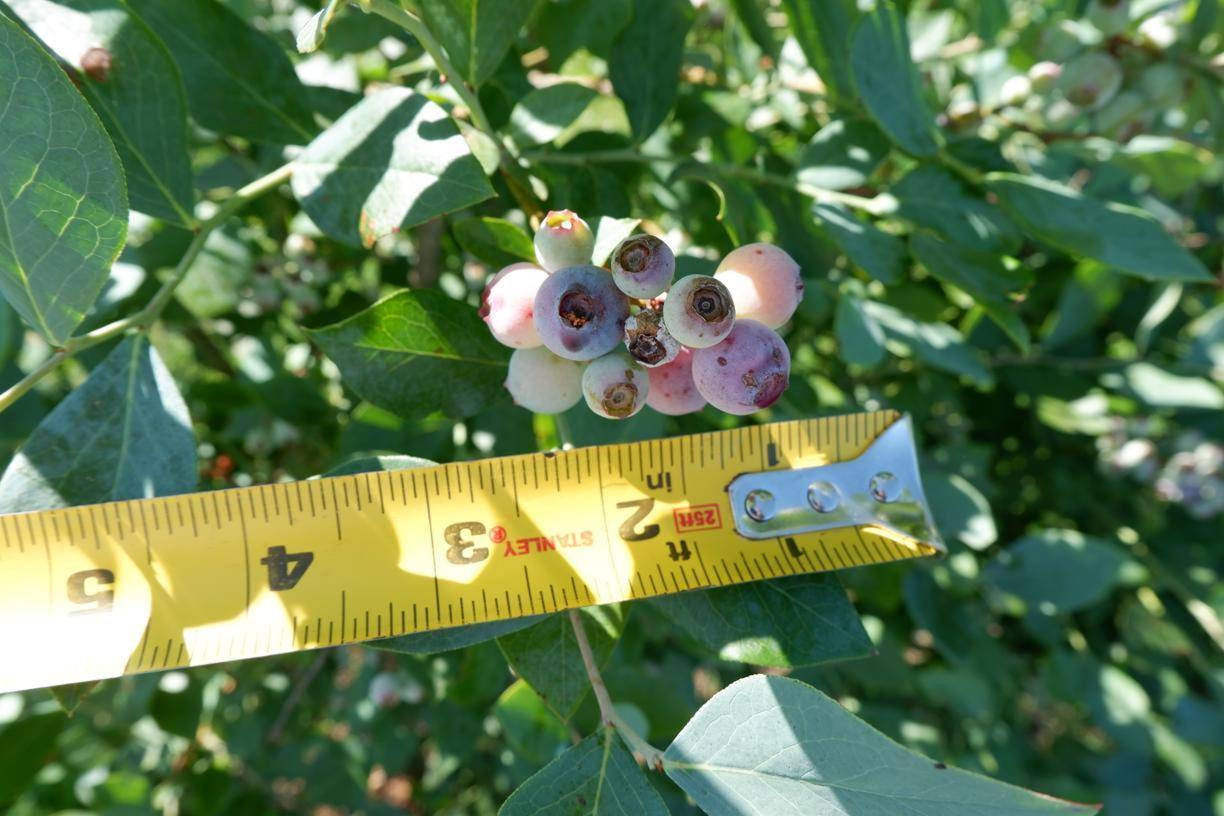Immature: (713, 243, 804, 331), (479, 262, 551, 351), (503, 344, 584, 414), (663, 274, 737, 347), (641, 342, 708, 416), (583, 353, 649, 418), (611, 235, 675, 298), (534, 208, 594, 273), (625, 309, 681, 367)
Mature: (689, 319, 792, 414), (532, 265, 631, 360)
